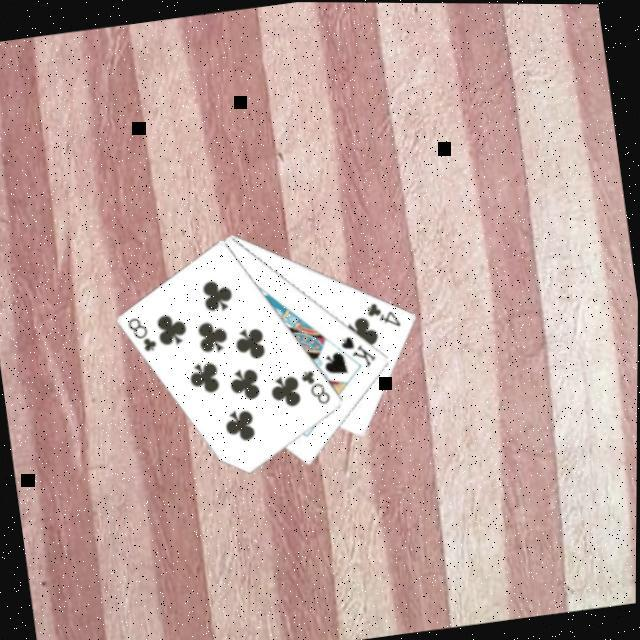4C: (362, 294, 403, 332)
8C: (123, 310, 161, 356), (296, 364, 334, 409)
KS: (336, 328, 380, 372)
